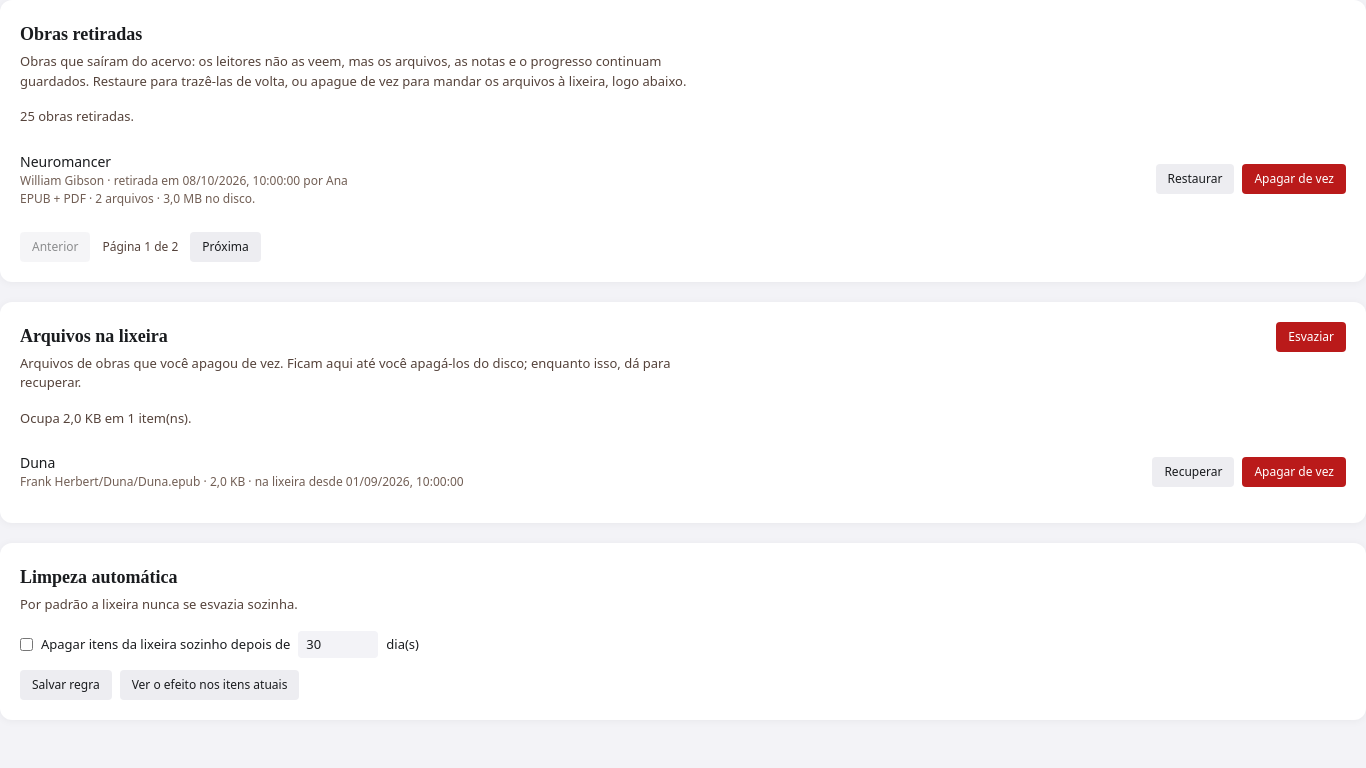
Test case: TrashTab: the works that were retired (#89) › has no way forward from the last page
Click the button "Próxima" at (226, 246), box [190,232,261,262]
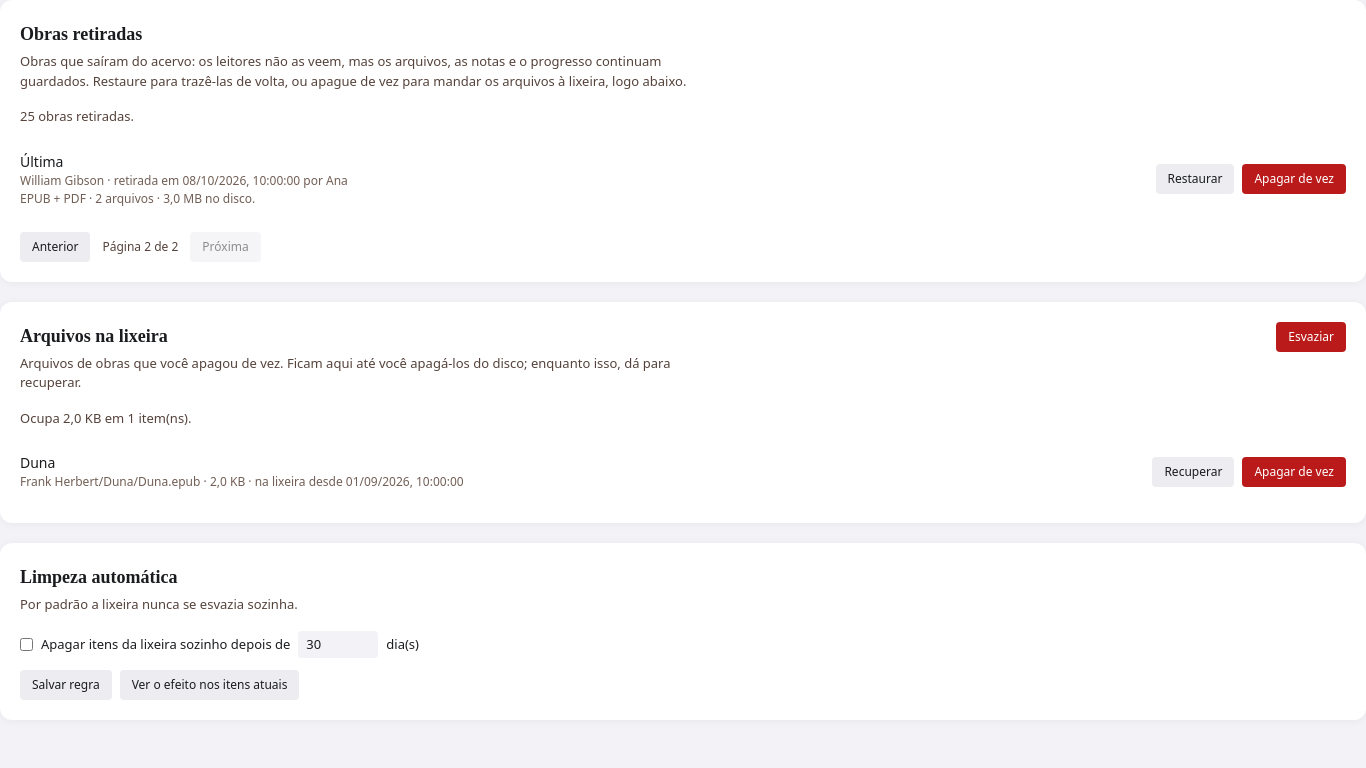
Check: the button "Próxima" is disabled, box [190,232,261,262]
Check: the button "Anterior" is enabled, box [20,232,90,262]
